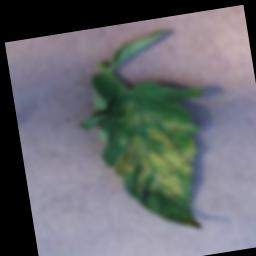Leaf_Mold: (100, 90, 210, 213)
